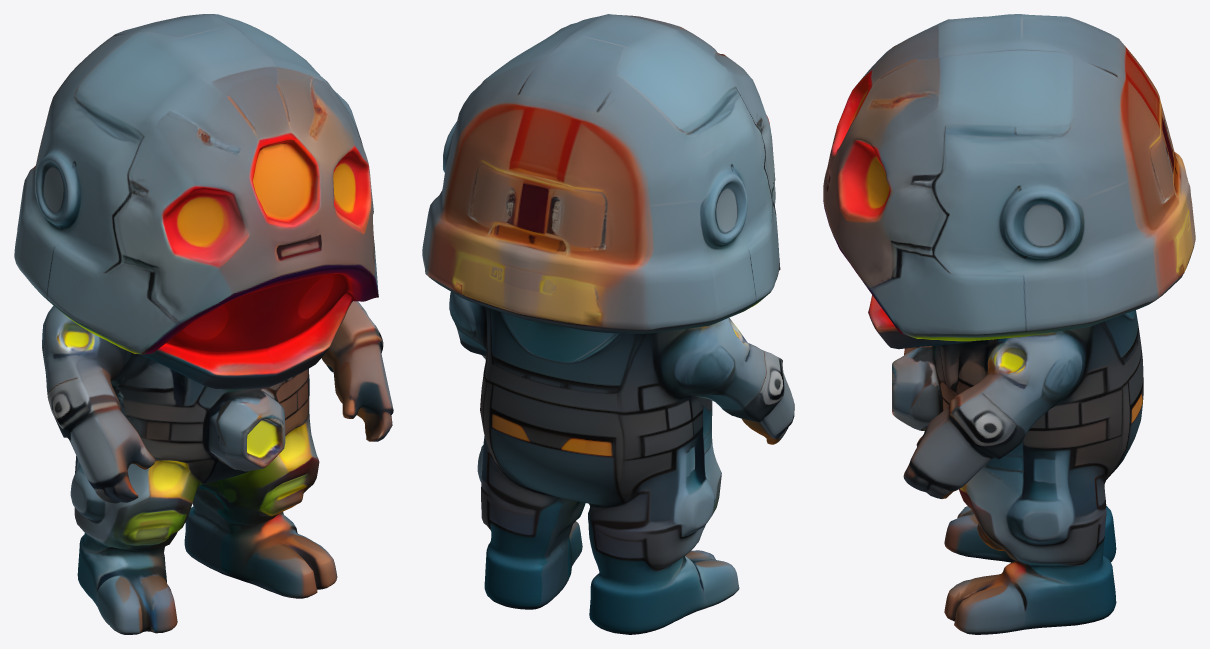
Rendered from base_basic_pbr.fbx.
3 views of the same model, side by side, from view 1: azimuth 30°, elevation 25°; view 2: azimuth 150°, elevation 25°; view 3: azimuth 270°, elevation 25° (orthographic).
Parts seen in each view (by area): view 1: model; view 2: model; view 3: model.
Part boxes in pixels (x1=…): model: x1=14, y1=14, x2=393, y2=634; model: x1=422, y1=14, x2=794, y2=634; model: x1=823, y1=14, x2=1195, y2=634.
Size of the model in its own units: 115 by 190 by 115.
1 material, 1 textured.
